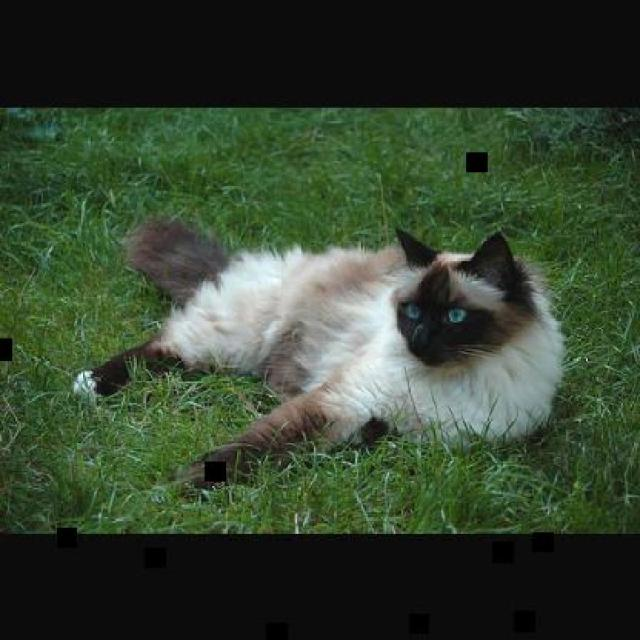unauthorized: (70, 214, 568, 497)
